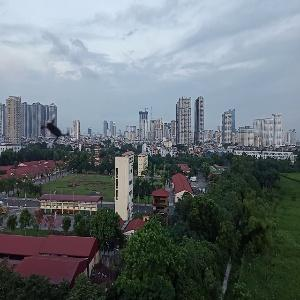drone: (34, 107, 79, 152)
